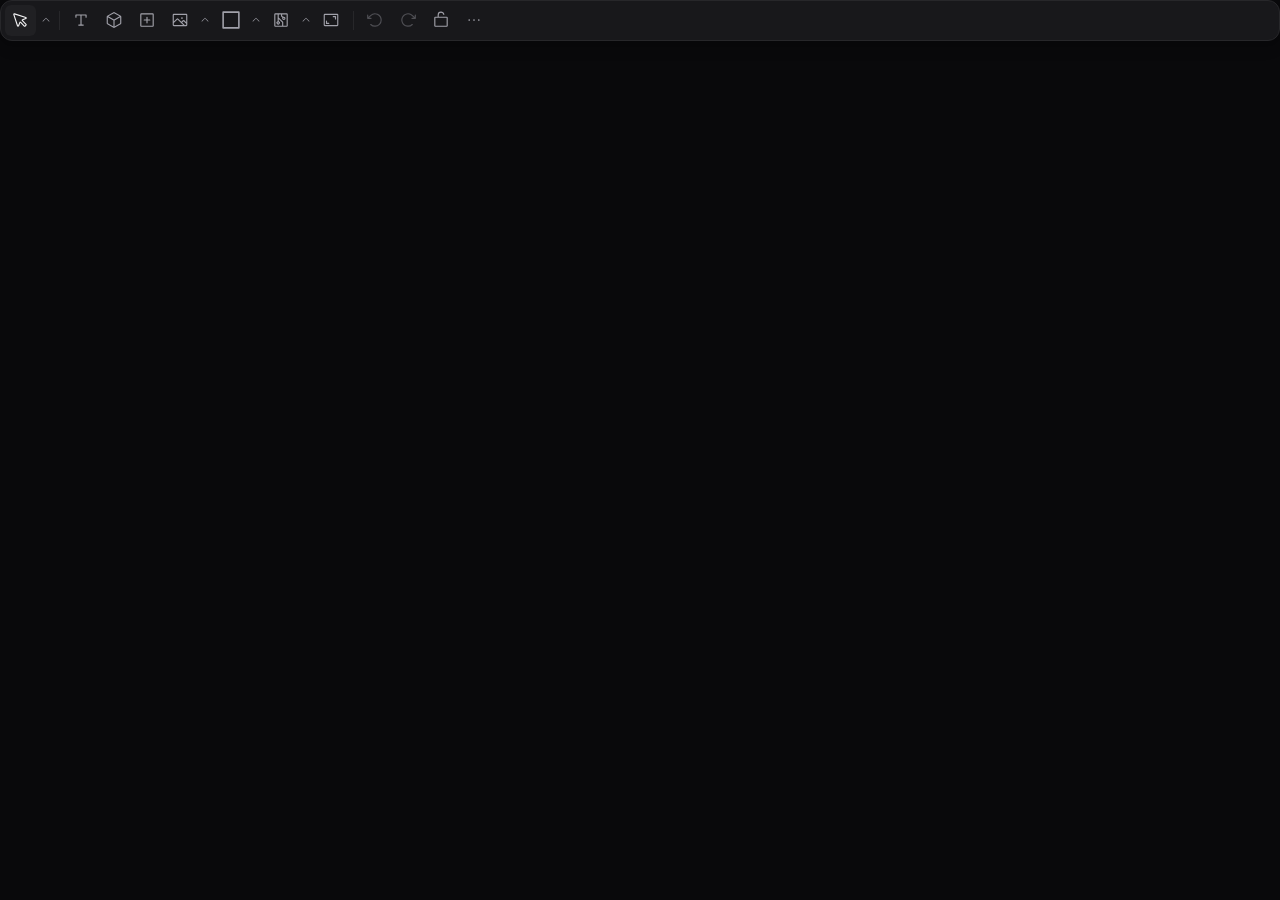
Test case: Toolbox › test gates only in engineering mode, with I/O group, falling back to NAND
Later steps or results of the test are not shown.
Expected: the button "Gates" is not shown
Click the button named "Gates": [281, 20] box 266,5 -> 296,36
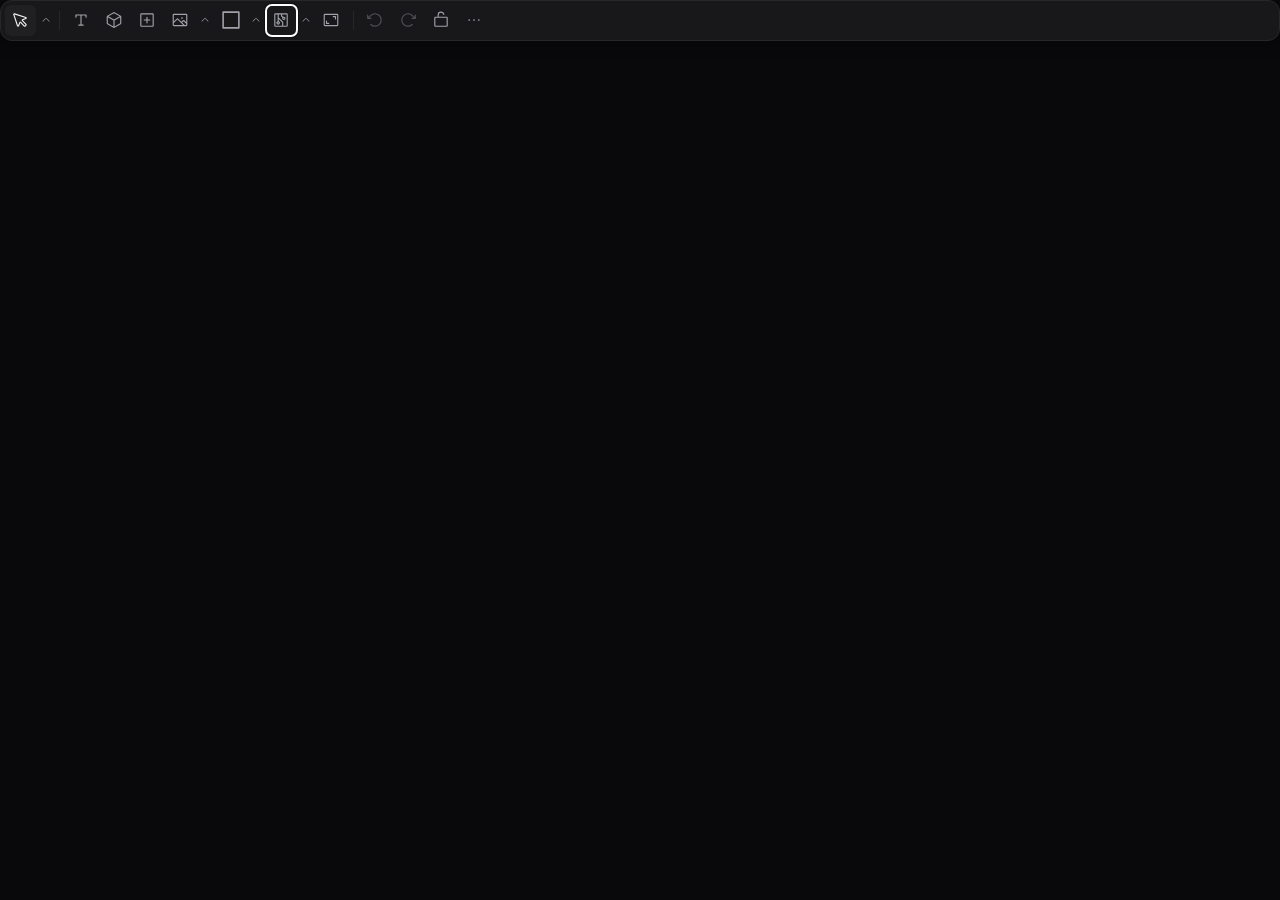
Click the button named "Choose gate": [306, 20] box 298,5 -> 314,36
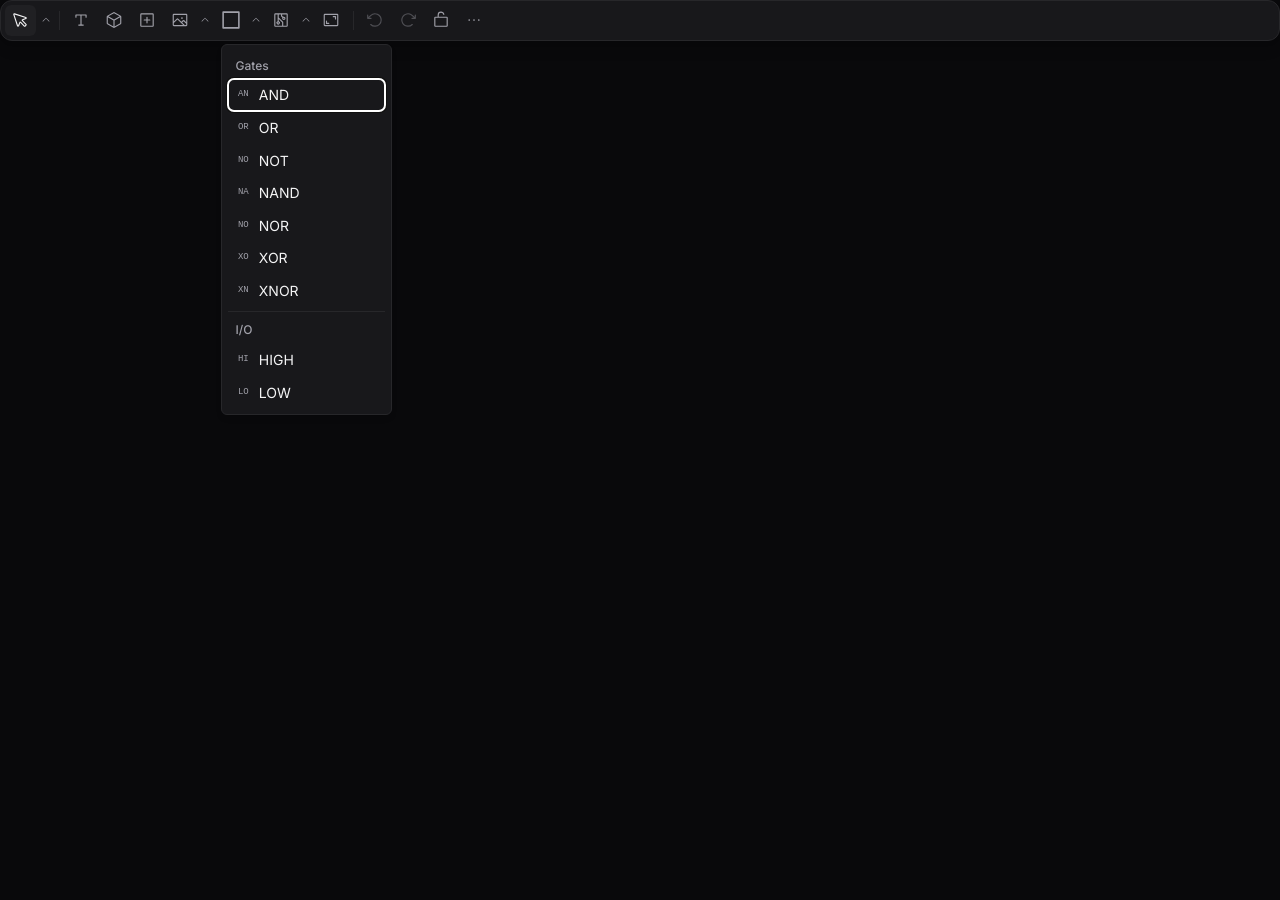
Expected: the text "I/O" is shown, 236,322 -> 252,337
